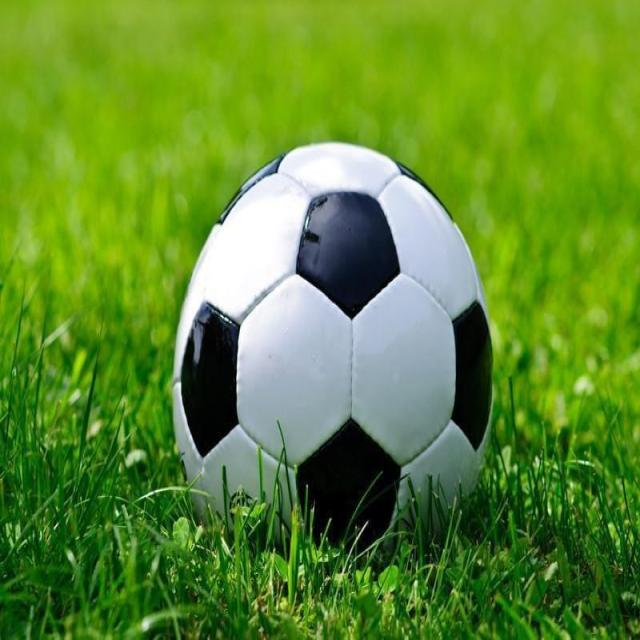soccer ball: (173, 142, 492, 552)
